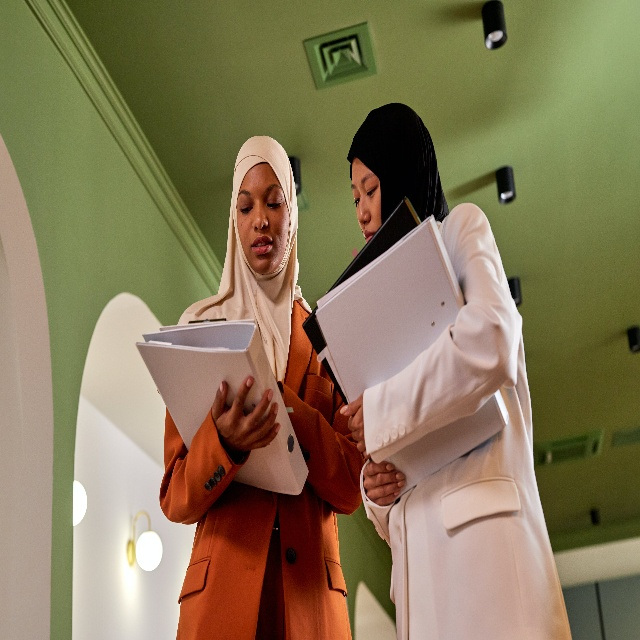Sin_guantes: (212, 376, 279, 451), (340, 391, 370, 460), (362, 461, 405, 504)
